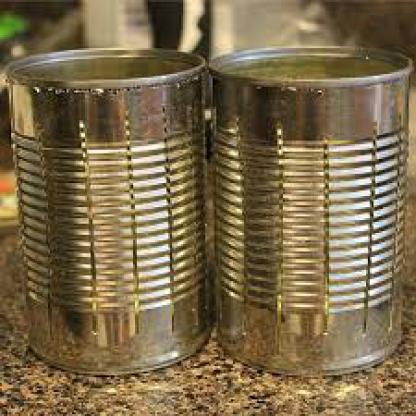METAL: (0, 48, 209, 374), (207, 46, 412, 372)
